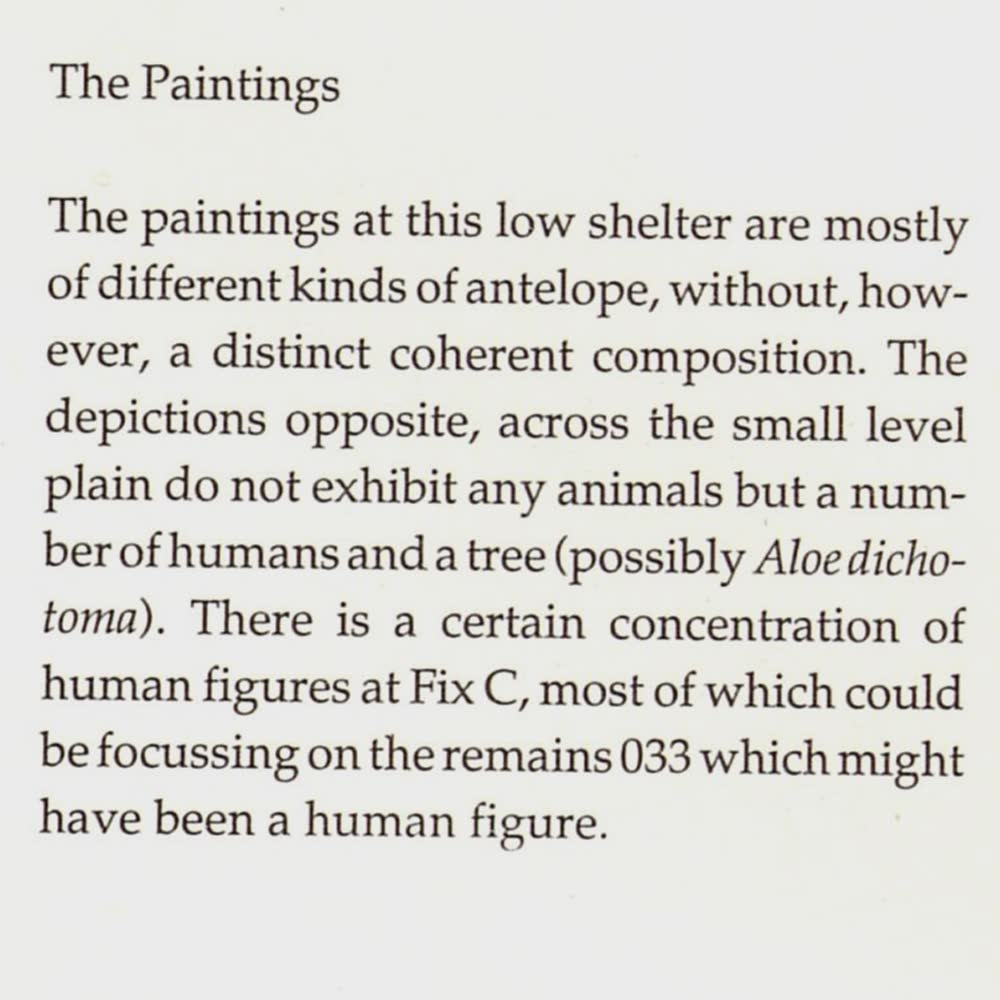text: (37, 56, 977, 859)
